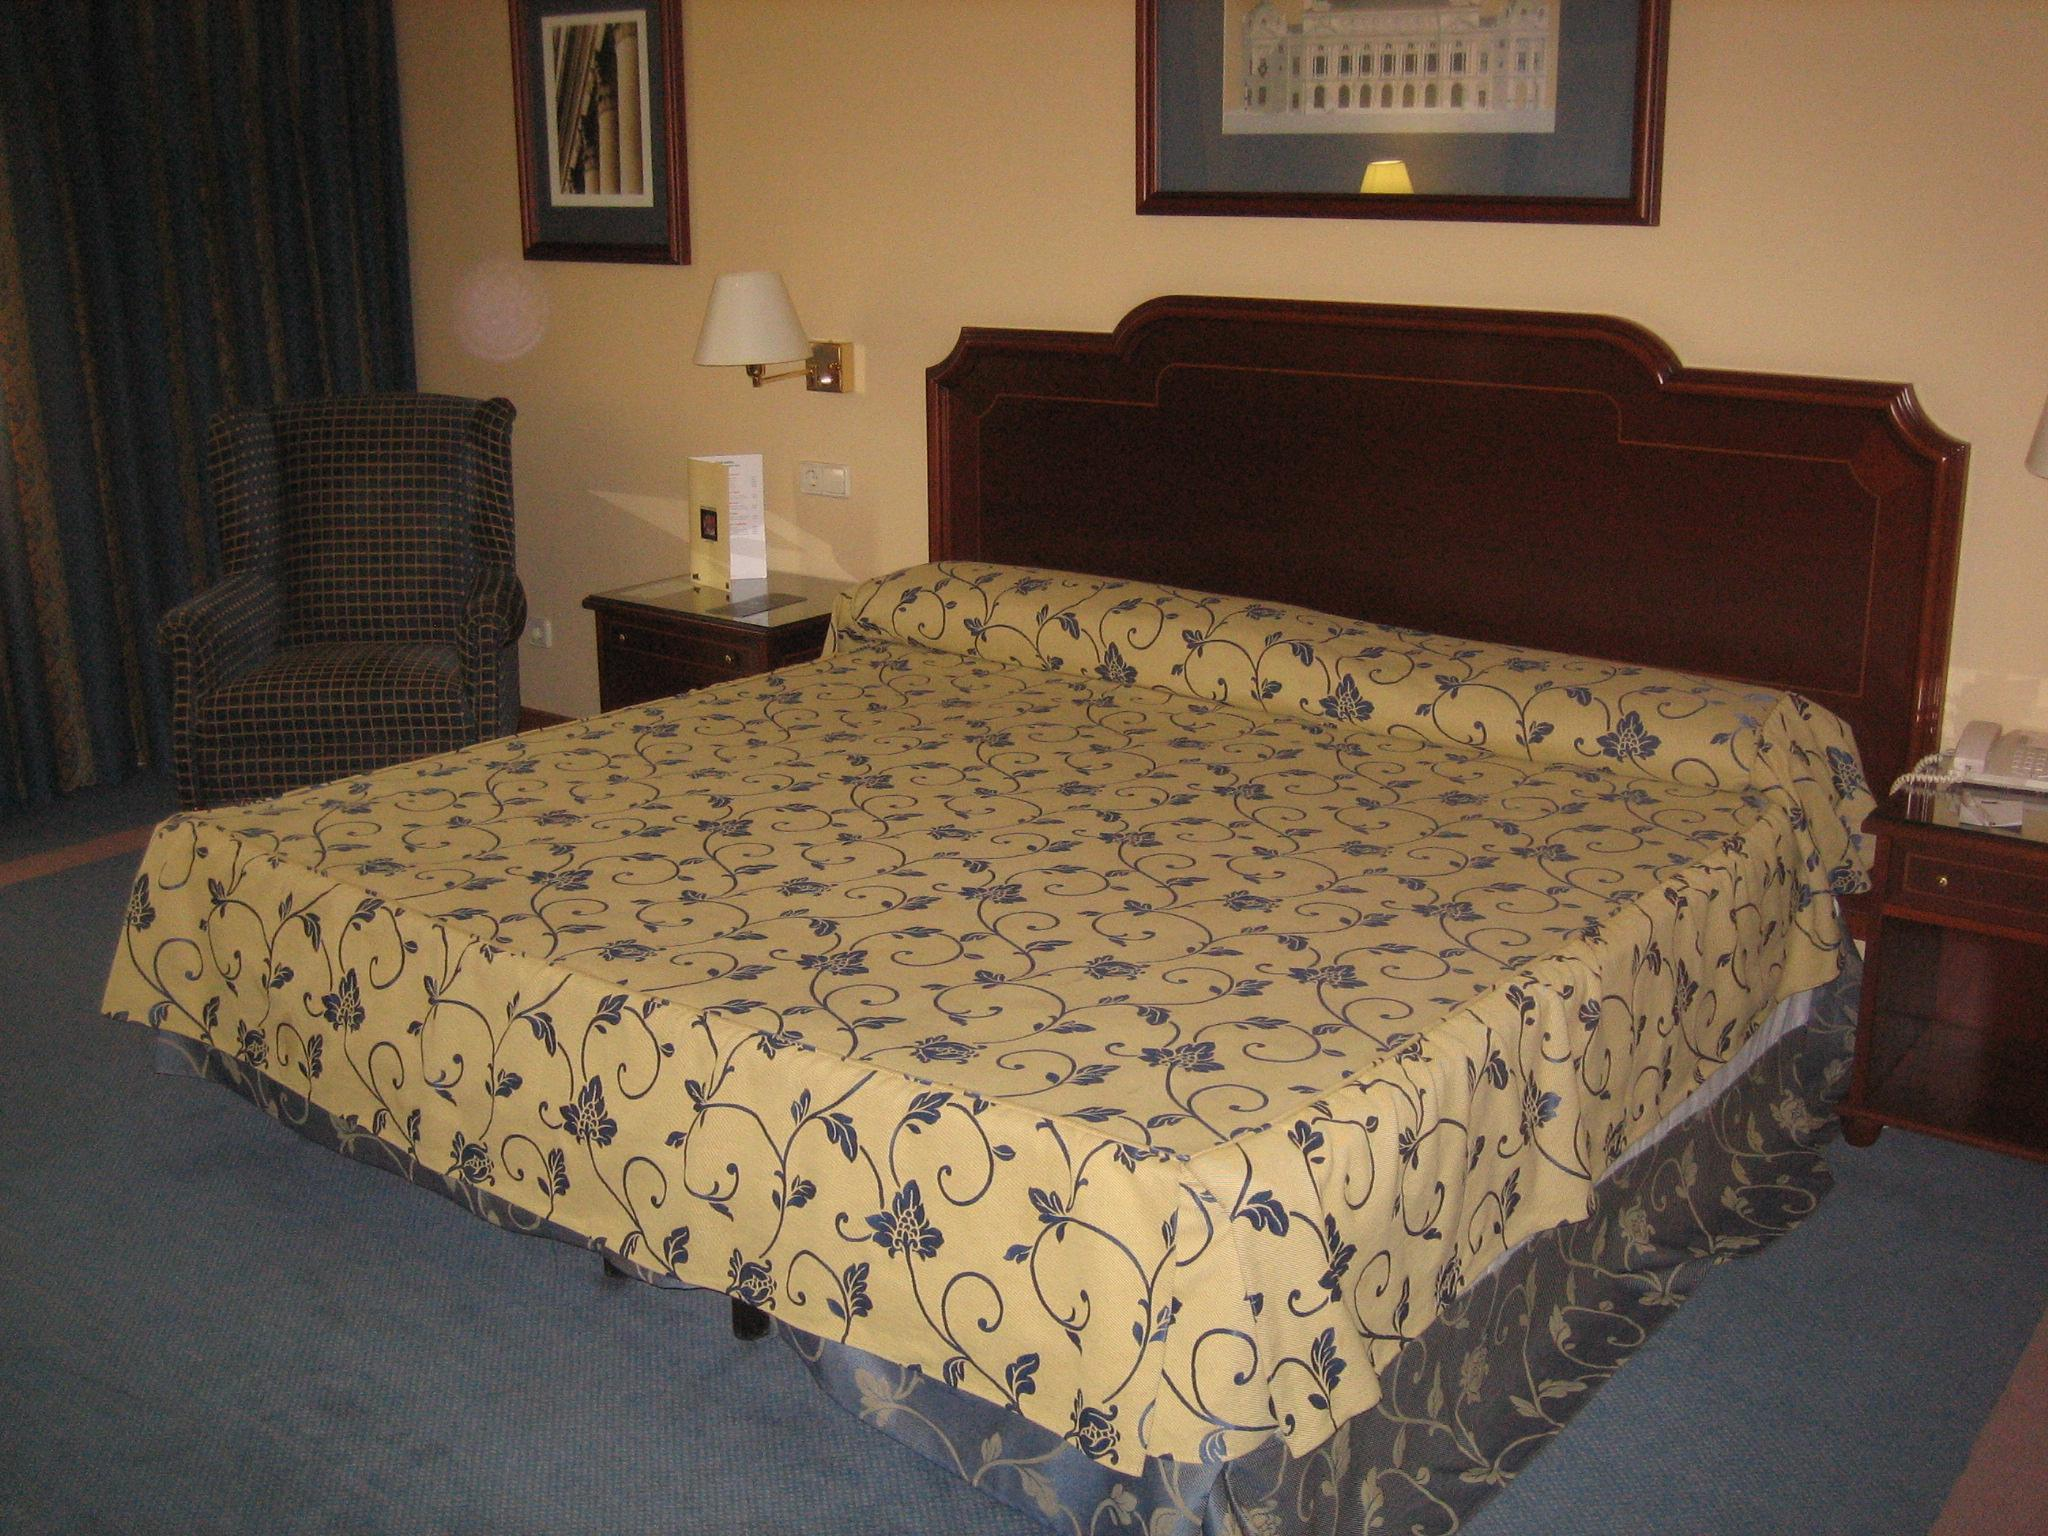Cama: (132, 339, 1980, 1520)
